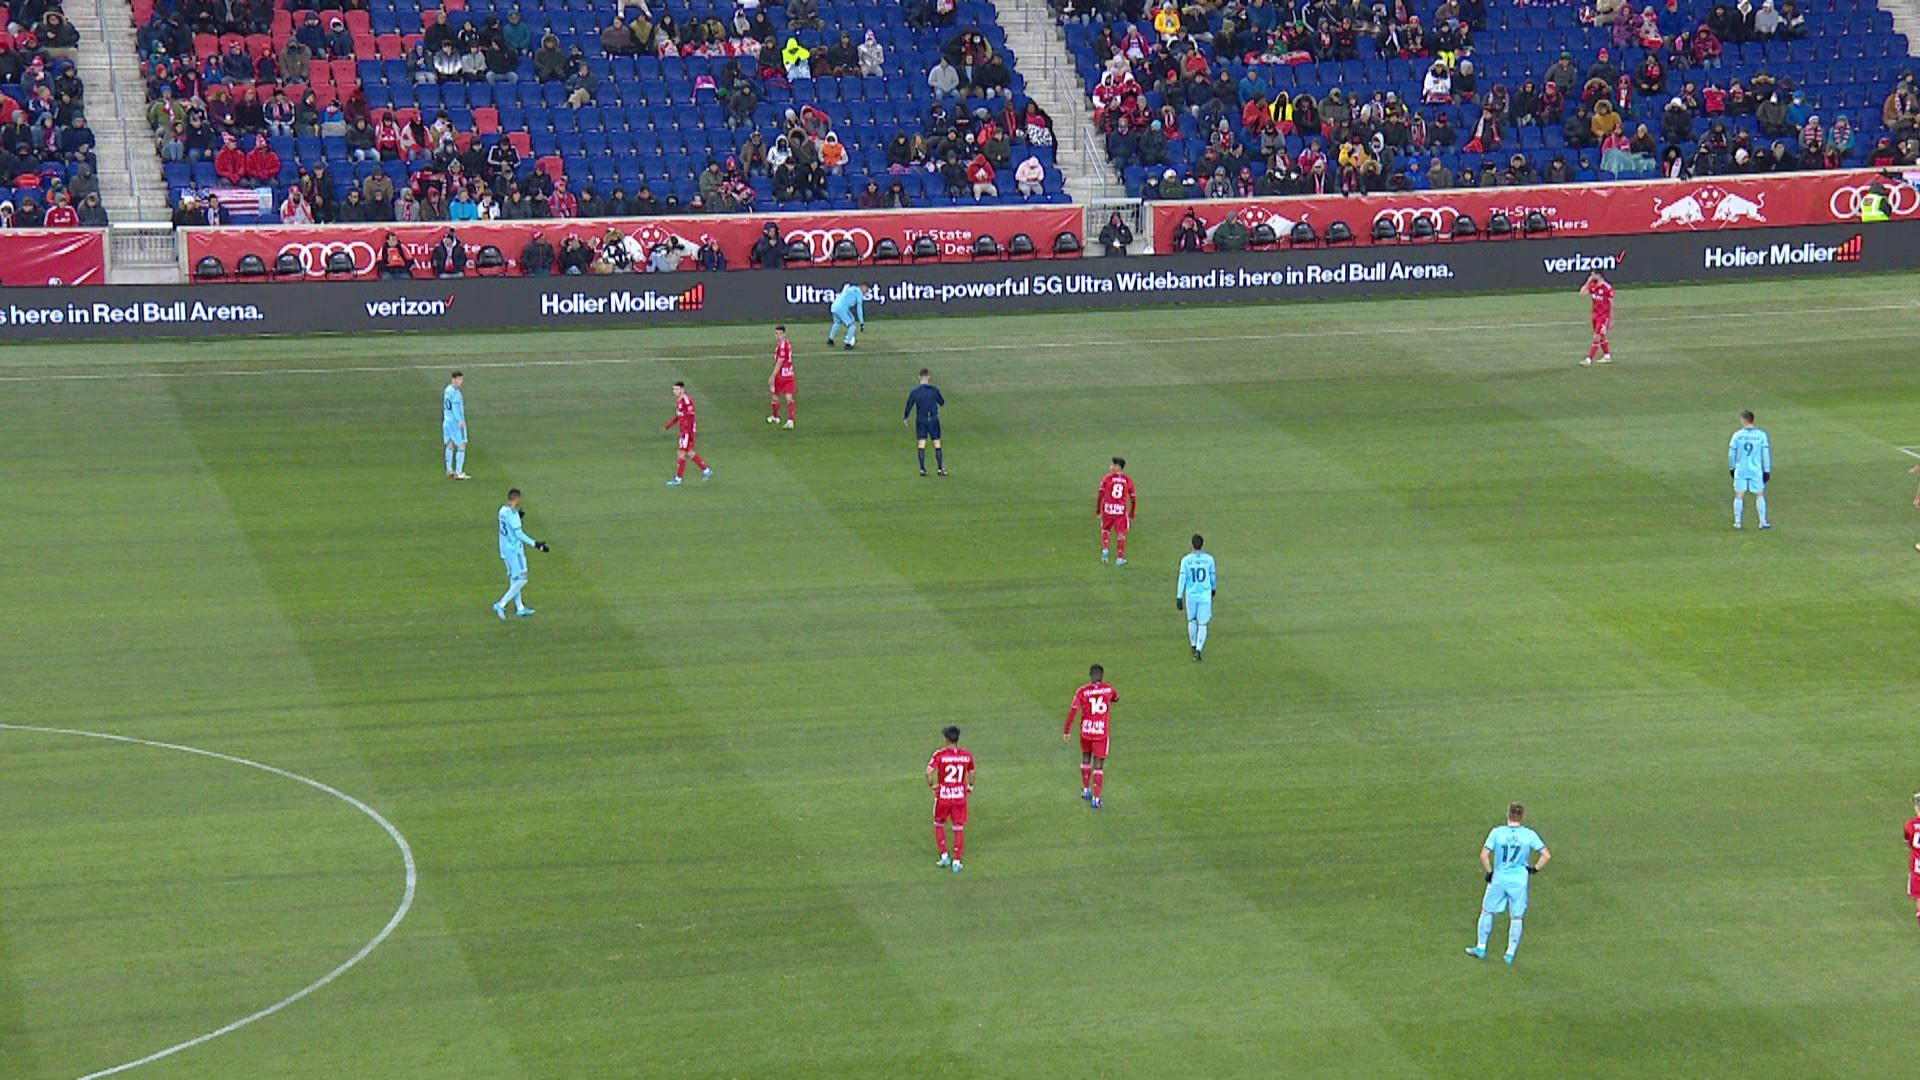football: (852, 336, 857, 345)
